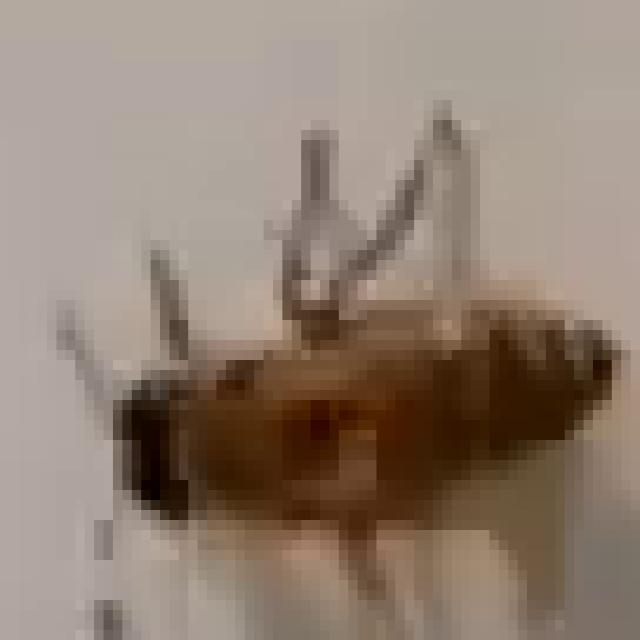honeybee: (89, 161, 627, 544)
